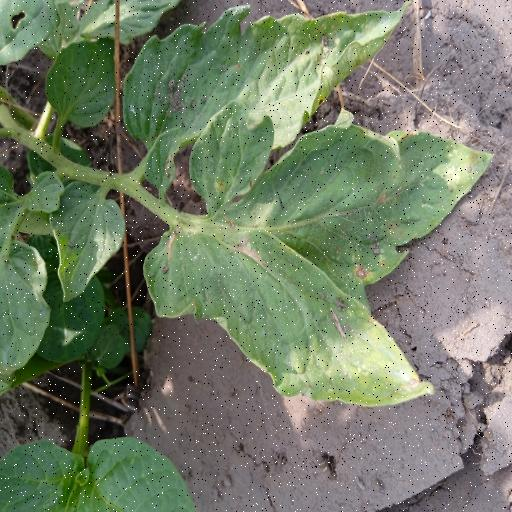Tomato_Brown_Spots: (139, 94, 502, 411), (114, 0, 406, 186)
